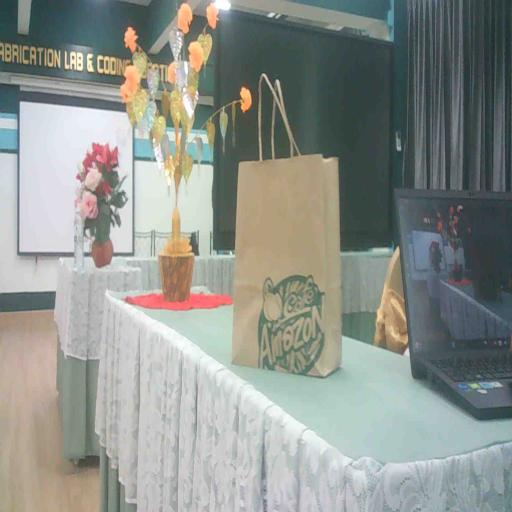bag: (222, 144, 350, 393)
